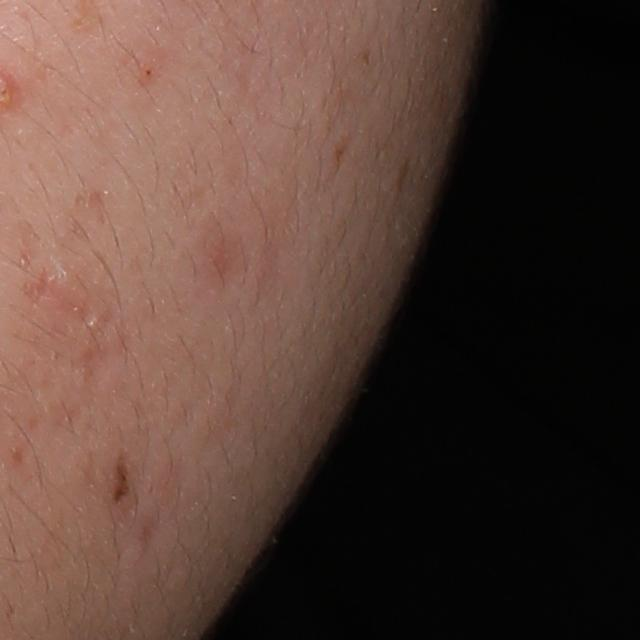nevus: (110, 453, 130, 508)
